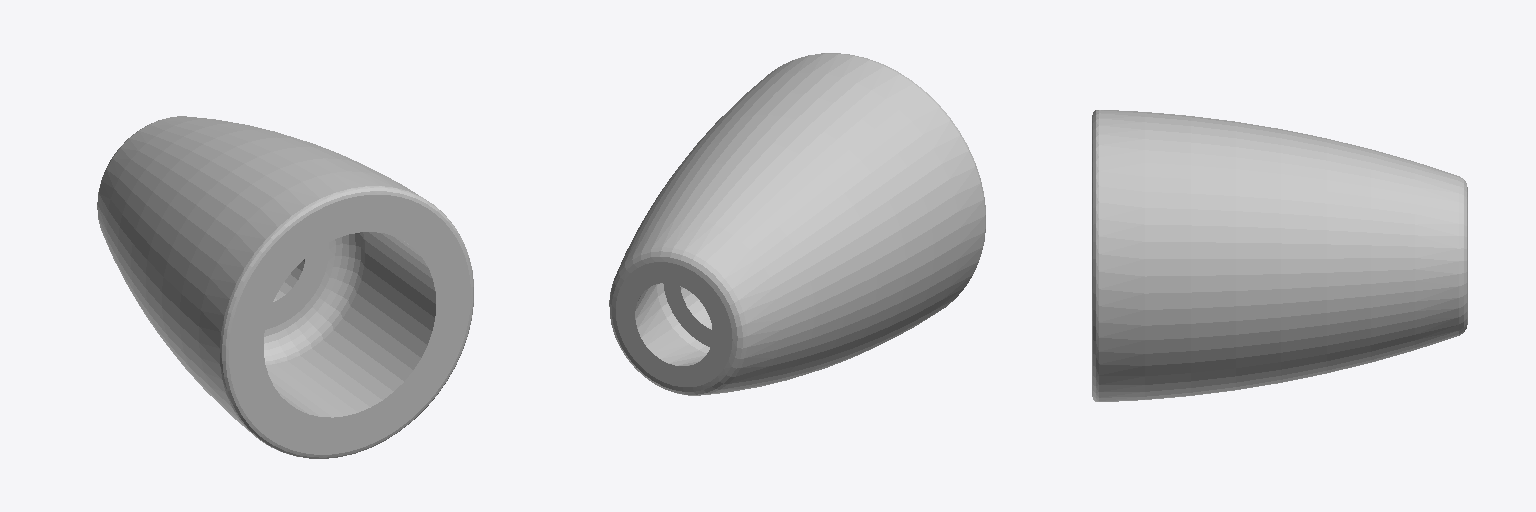
File: roller_norm.obj
3 views of the same model, side by side, from view 1: azimuth 30°, elevation 25°; view 2: azimuth 150°, elevation 25°; view 3: azimuth 270°, elevation 25° (orthographic).
Visible parts, largest first — view 1: Твердое тело2; view 2: Твердое тело2; view 3: Твердое тело2.
Part boxes in pixels (bbox=[...]): Твердое тело2: bbox=[97, 116, 473, 458]; Твердое тело2: bbox=[609, 53, 985, 395]; Твердое тело2: bbox=[1092, 110, 1467, 401].
Bounding box in the file's own units: 22.29 × 22.29 × 28.6.